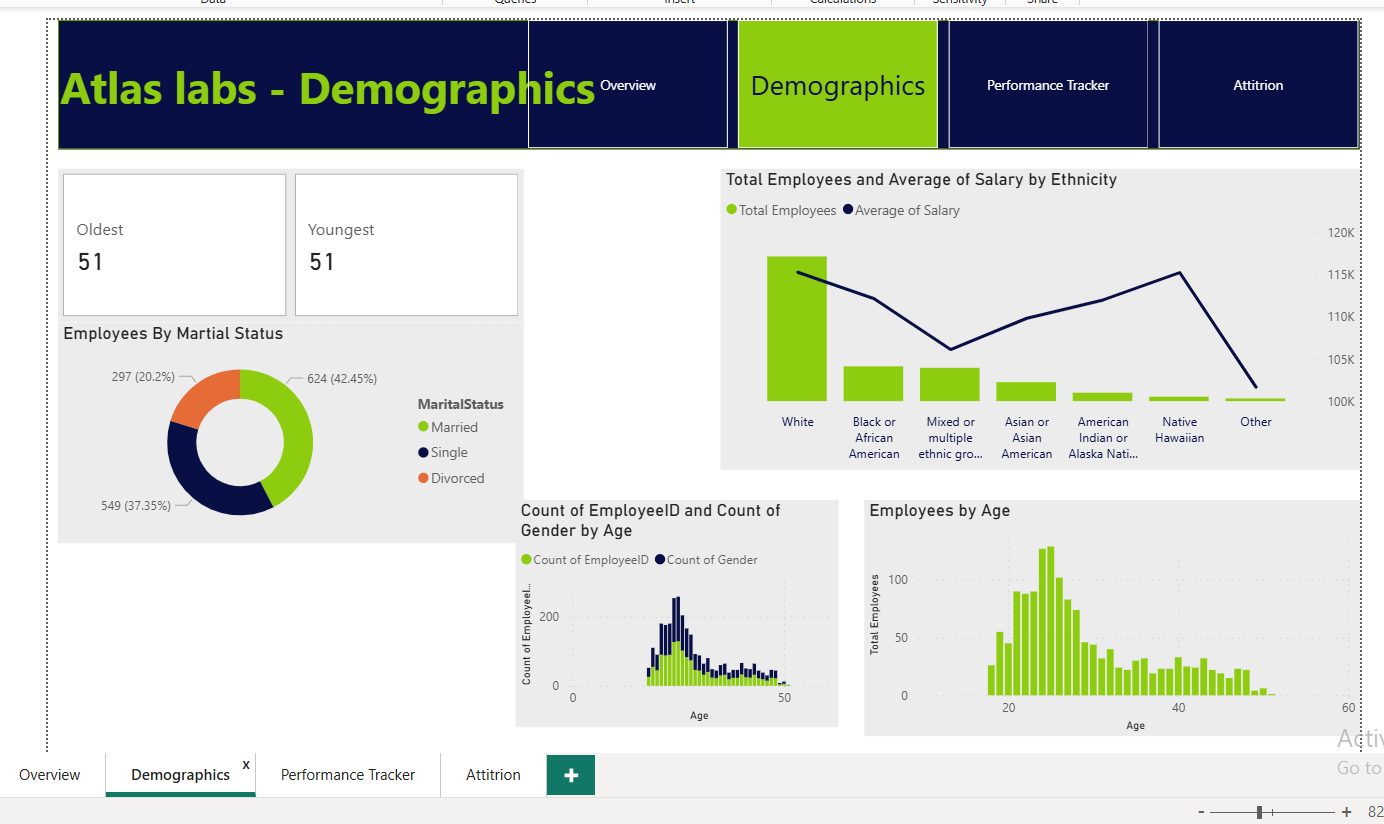

Layout of this report page (visuals, bound fields, positions):
{"tool":"powerbi","page":{"name":"Demographics","canvas":[1280,720],"ordinal":1},"visuals":[{"type":"shape","box":[9.6,0,1270.7,126.2],"z":0},{"type":"pageNavigator","box":[468.2,0,811.7,125.9],"z":1000},{"type":"cardVisual","fields":{"Data":["Employee.Oldest","Employee.Youngest"]},"box":[9.6,145.5,454.2,149.6],"z":2000},{"type":"donutChart","title":"Employees By Martial Status","fields":{"Category":["Employee.MaritalStatus"],"Y":["CountNonNull(Employee.EmployeeID)"]},"box":[9.8,294.6,454.7,215.1],"z":3000},{"type":"lineClusteredColumnComboChart","fields":{"Category":["Employee.Ethnicity"],"Y":["CountNonNull(Employee.EmployeeID)"],"Y2":["Avg(Employee.Salary)"]},"box":[655.9,145.5,624.4,293.7],"z":4000},{"type":"columnChart","title":" Employees by Age","fields":{"Y":["CountNonNull(Employee.EmployeeID)"],"Category":["Employee.Age"]},"box":[795.9,467.9,484.4,230.5],"z":5000},{"type":"columnChart","fields":{"Y":["CountNonNull(Employee.EmployeeID)","CountNonNull(Employee.Gender)"],"Category":["Employee.Age"]},"box":[456,468.2,315.4,221.3],"z":6000}]}

Visuals, with their boxes on the page's 1280x720 design canvas (x1, y1, x2, y2). These are canvas units, not pixel positions in the 1384x824 screenshot, which may show the page scaled, cropped or inside an application window:
shape: locate(10, 0, 1280, 126)
pageNavigator: locate(468, 0, 1280, 126)
cardVisual - Employee.Oldest x Employee.Youngest: locate(10, 146, 464, 295)
"Employees By Martial Status" donutChart: locate(10, 295, 464, 510)
lineClusteredColumnComboChart - Employee.Ethnicity x CountNonNull(Employee.EmployeeID): locate(656, 146, 1280, 439)
" Employees by Age" columnChart: locate(796, 468, 1280, 698)
columnChart - CountNonNull(Employee.EmployeeID) x CountNonNull(Employee.Gender): locate(456, 468, 771, 690)
